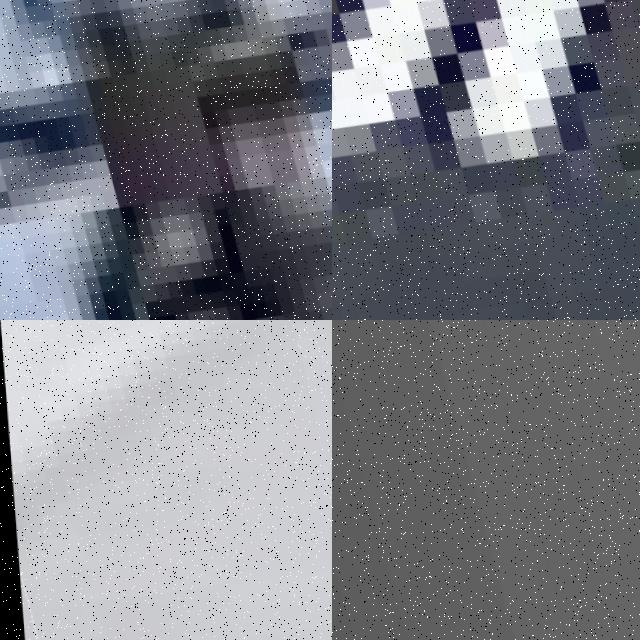0: (0, 0, 332, 320)
drone: (0, 320, 332, 640), (332, 0, 640, 320), (332, 320, 640, 640)
